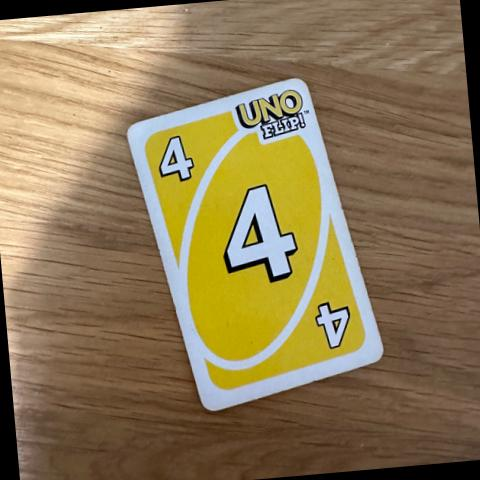8_red: (222, 183, 298, 285), (314, 304, 352, 349), (158, 135, 195, 181)
